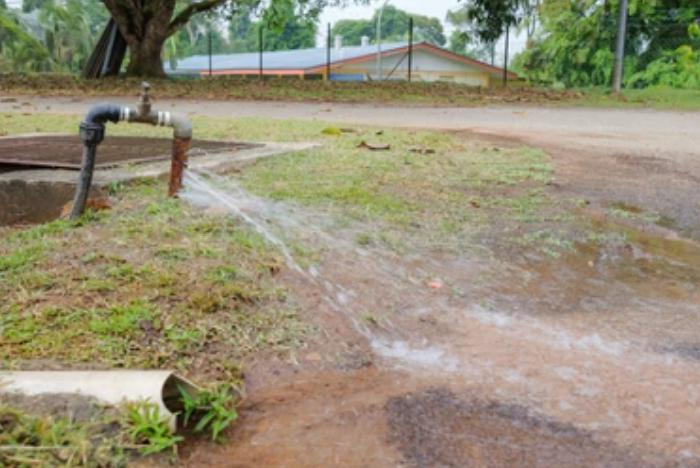pipe burst: (174, 158, 405, 317)
water accumulation: (188, 190, 700, 467)
